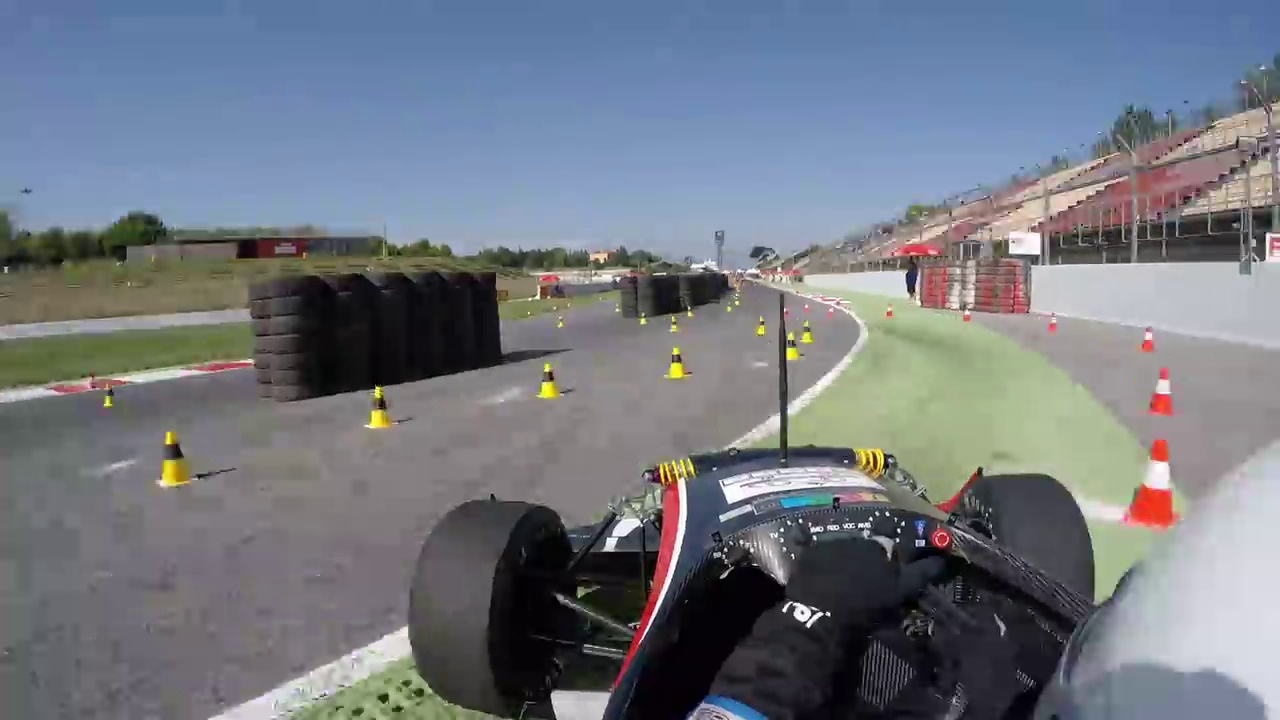Cone: (1121, 438, 1188, 523), (158, 429, 199, 486), (1144, 362, 1175, 420), (366, 382, 398, 430), (535, 361, 566, 400), (667, 345, 690, 384)
